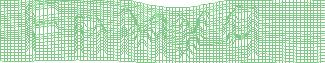F: (23, 1, 60, 56)
M: (118, 8, 169, 62)
n: (71, 15, 111, 58)
q: (220, 5, 260, 60)
y: (174, 10, 212, 60)
